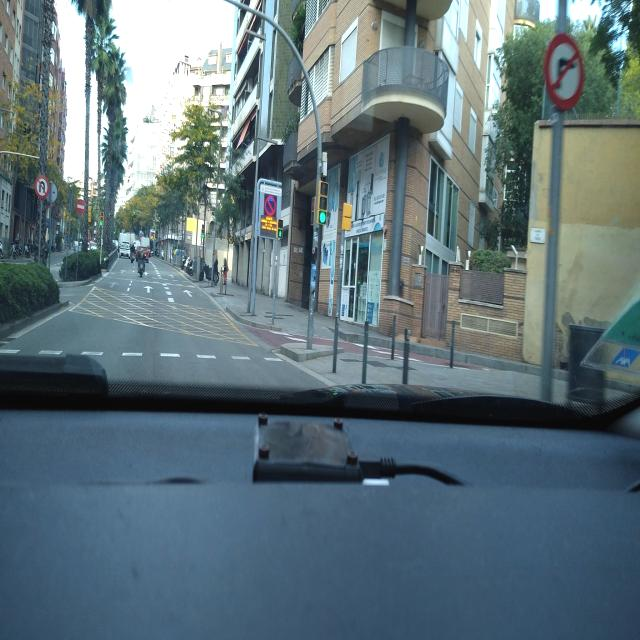bike: (200, 263, 220, 283), (137, 256, 145, 277), (130, 248, 136, 264)
car: (136, 246, 149, 262), (119, 242, 130, 258)
